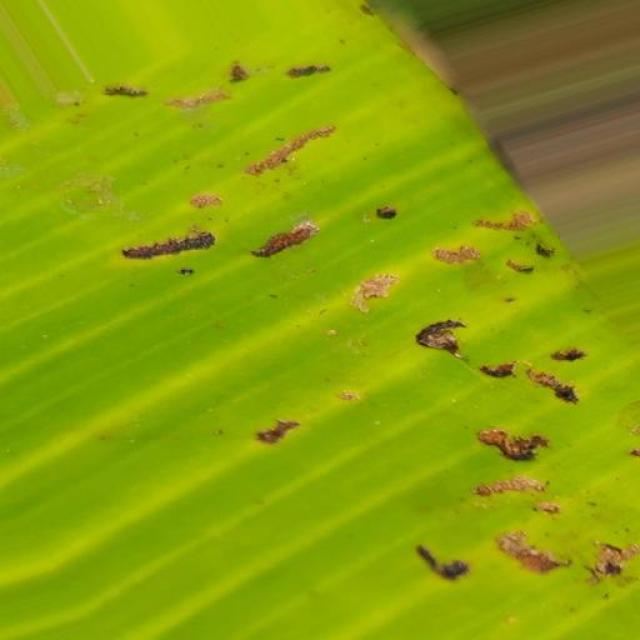Black_rot: (90, 45, 640, 640)
